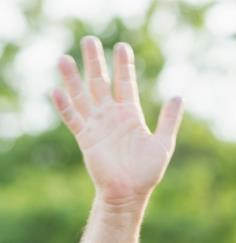down: (47, 32, 187, 196)
